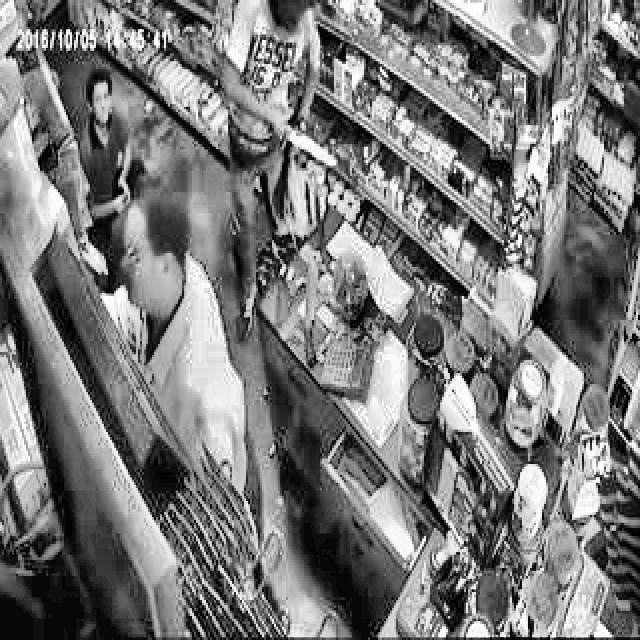robbery: (220, 1, 339, 352)
